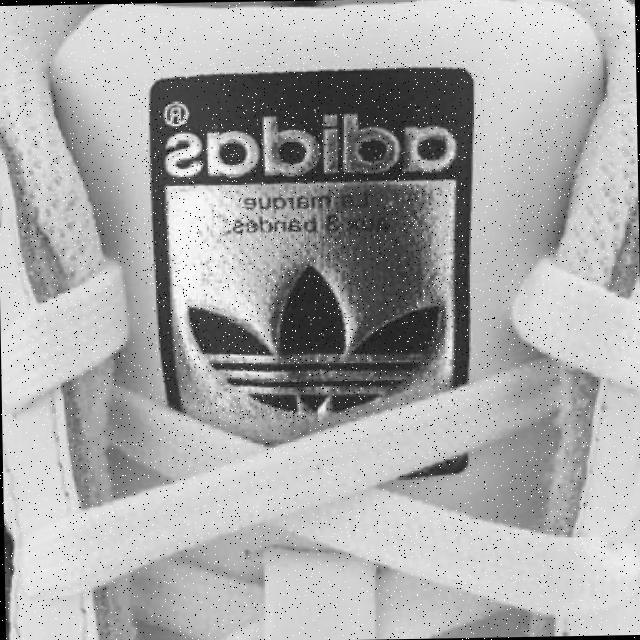Adidas: (143, 101, 470, 421)
